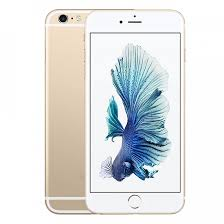iphone: (81, 6, 184, 217)
iphone6: (83, 6, 186, 217)
